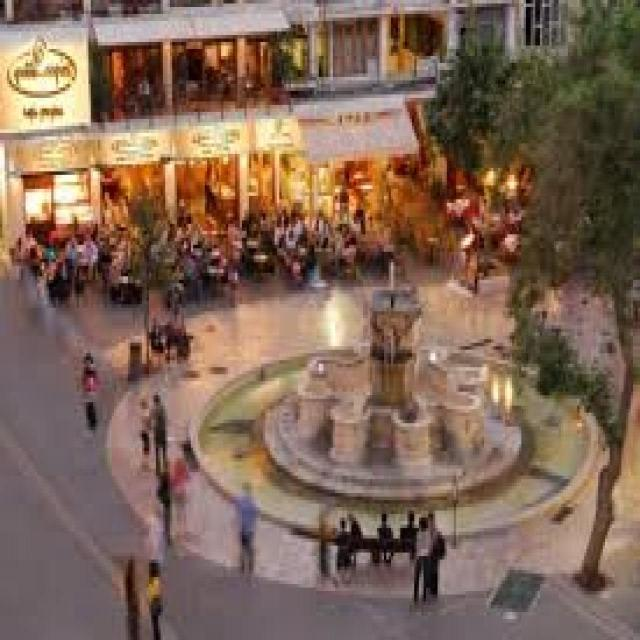Liontaria: (293, 281, 487, 480)
